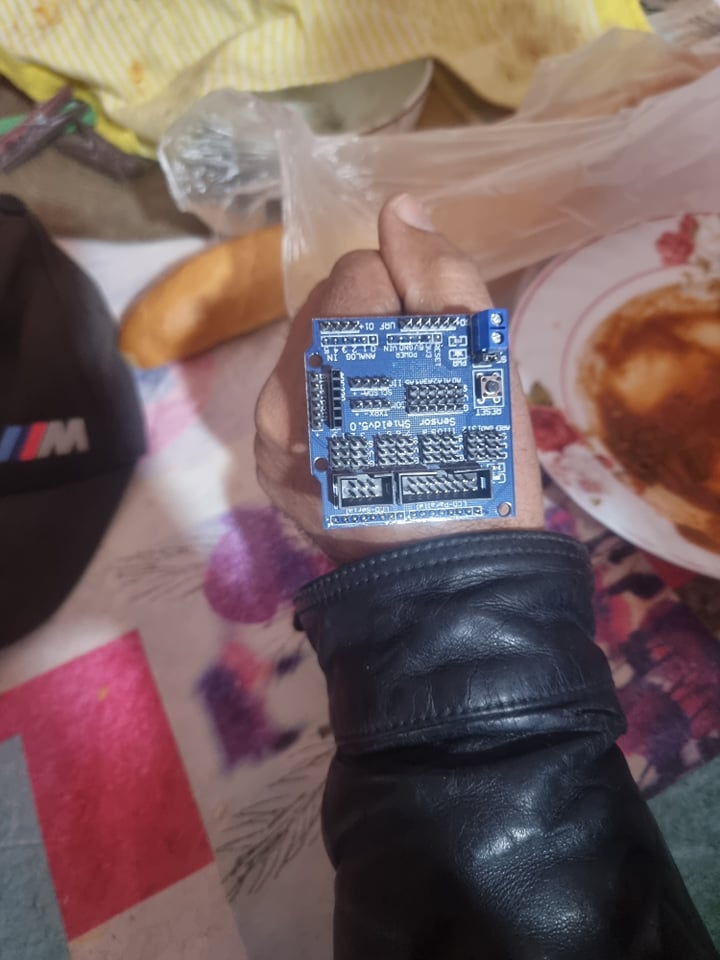5V EXPANSION: (302, 306, 517, 520)
